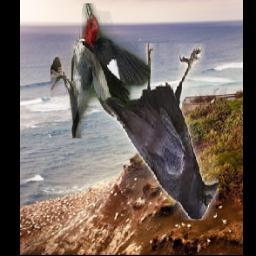Crow: (97, 43, 219, 220)
Woodpecker: (51, 4, 150, 139)
